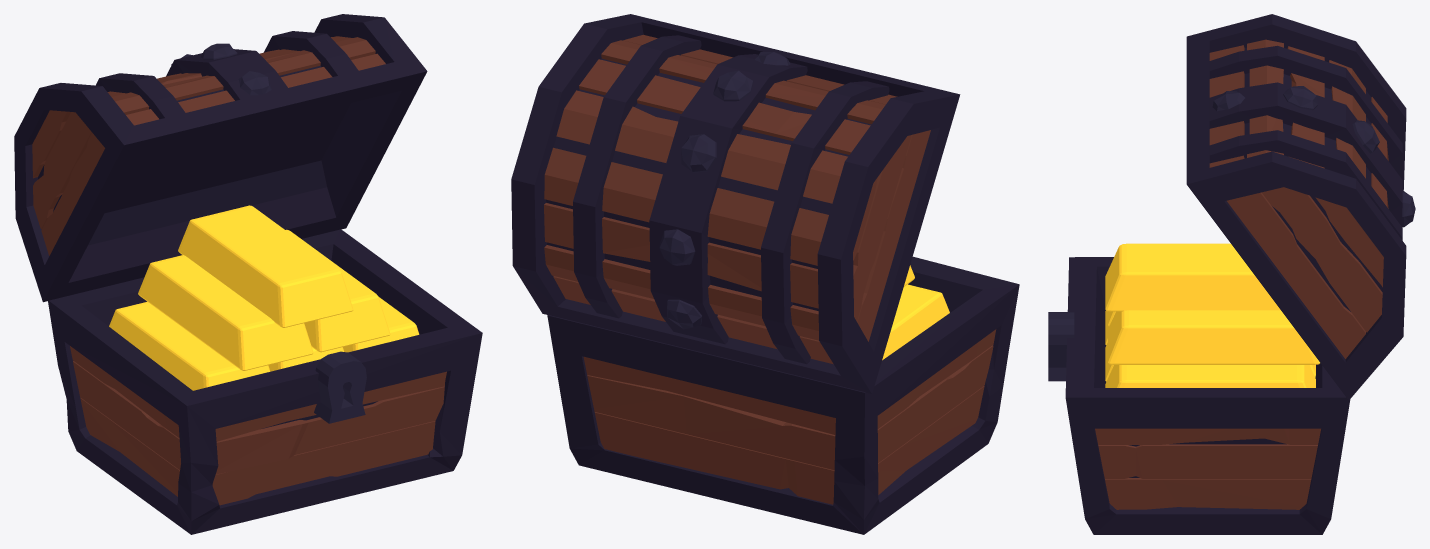
The model's file is chest_ingots.glb.
The picture shows the model from 3 angles, left to right: view 1: azimuth 30°, elevation 25°; view 2: azimuth 150°, elevation 25°; view 3: azimuth 270°, elevation 25°; orthographic projection. The views are drawn at different scales.
Visible parts, largest first — view 1: Chest_Ingots; view 2: Chest_Ingots; view 3: Chest_Ingots.
Boxes of the visible parts, bbox=[...] form: Chest_Ingots: bbox=[14, 14, 482, 534]; Chest_Ingots: bbox=[511, 14, 1019, 534]; Chest_Ingots: bbox=[1048, 14, 1415, 534].
Bounding box in the file's own units: 94.96 × 115 × 99.62.
